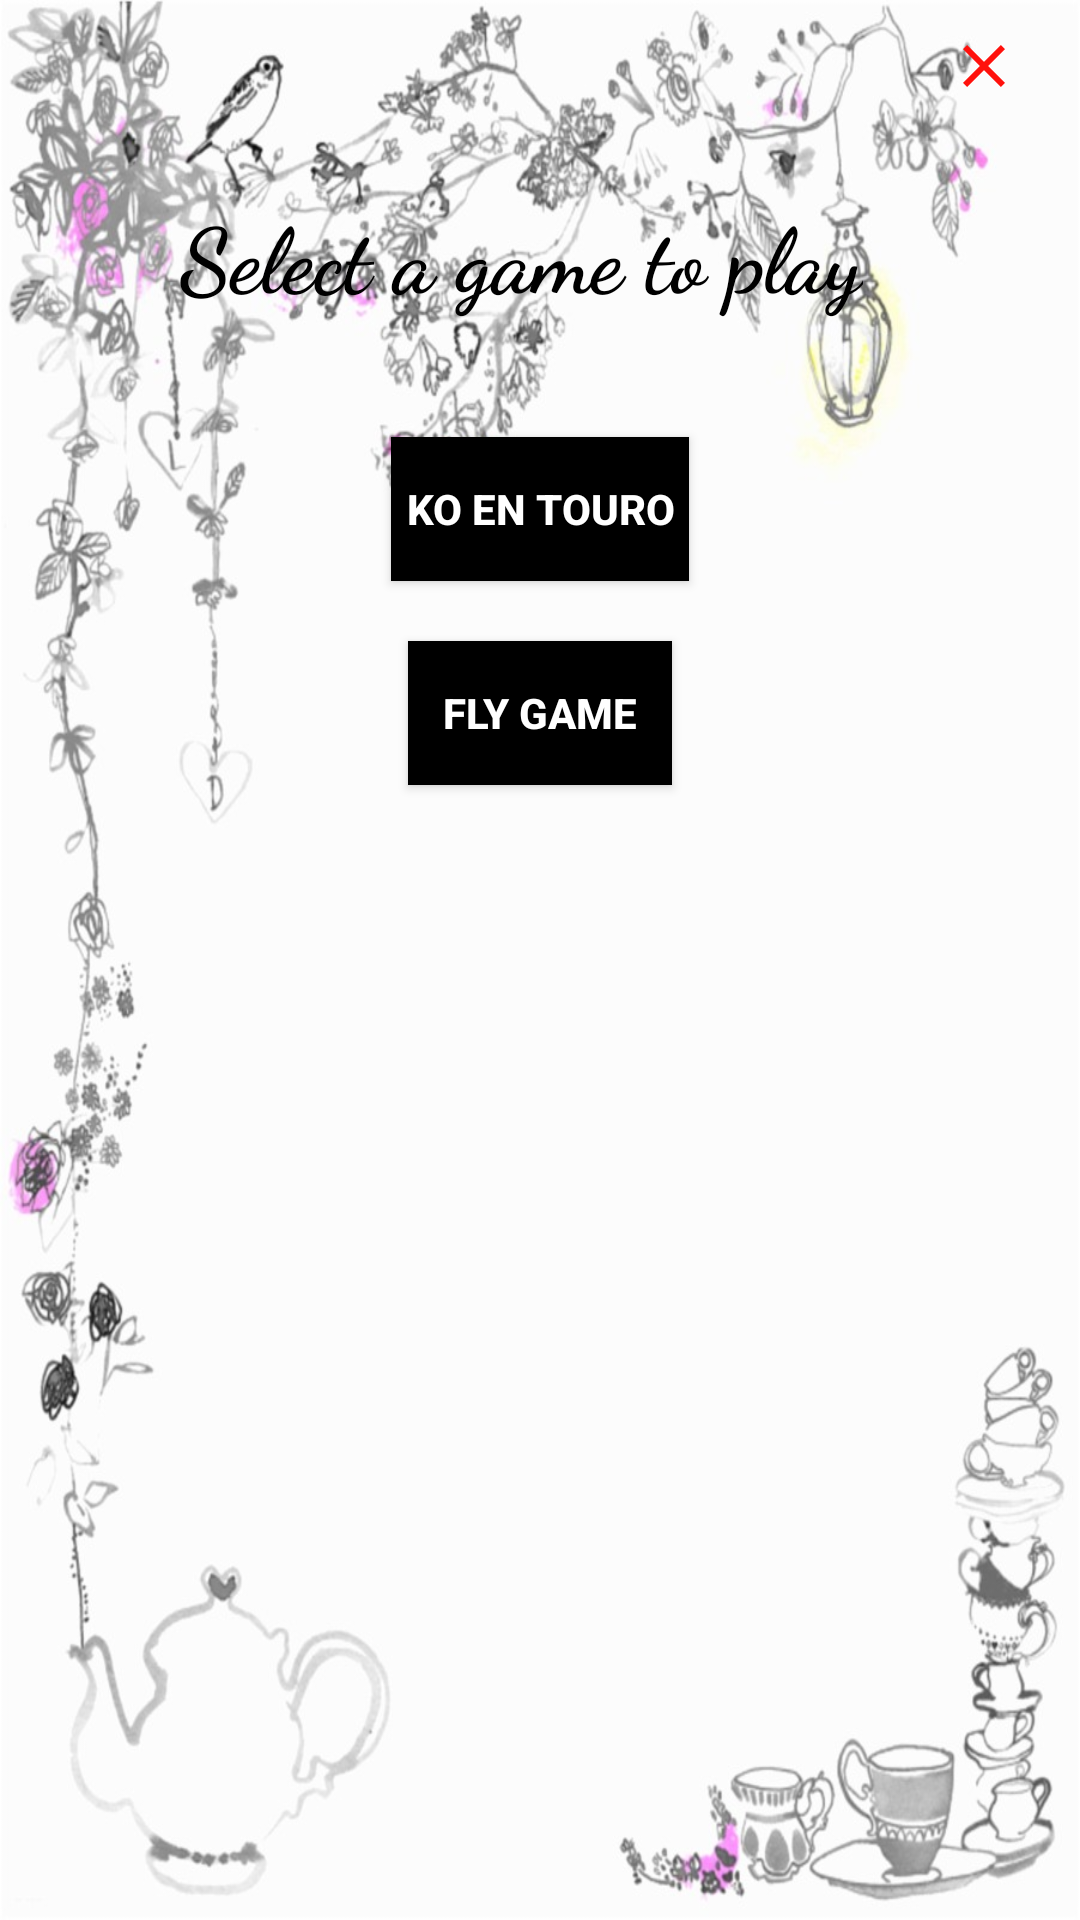

Named icons in this screenshot (1080 x 1920) and their bounding boxes, detection(x1, y1, x2, y2):
quit: detection(948, 42, 1005, 102)
